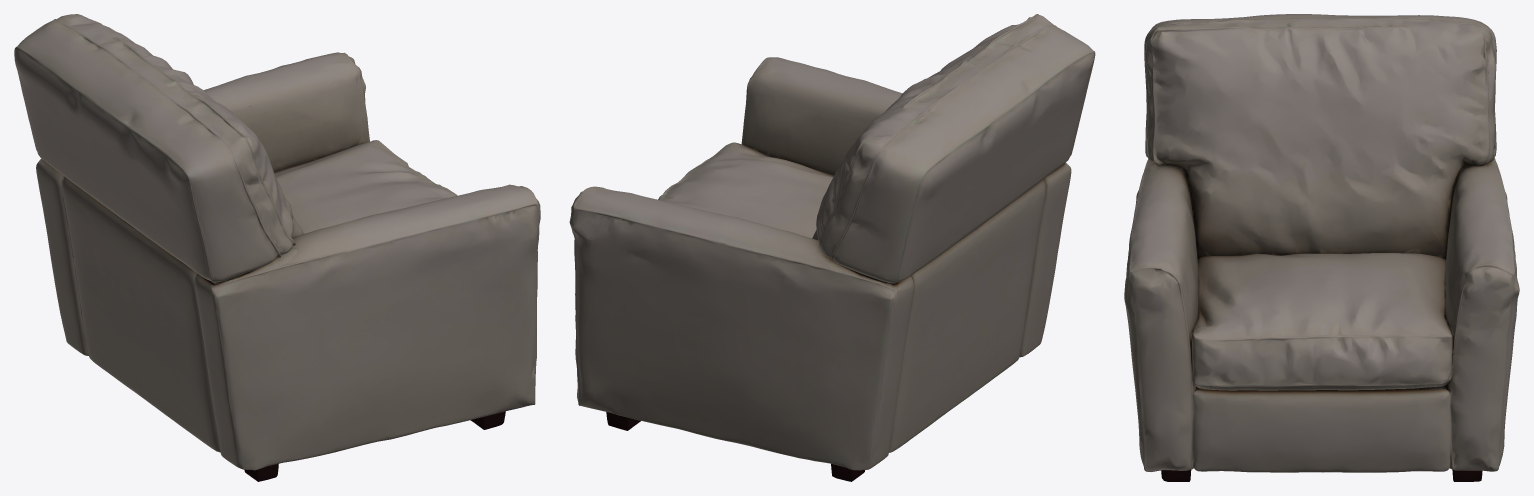
The model's file is chair-armchair.glb.
3 renders of one model, left to right at view 1: azimuth 30°, elevation 25°; view 2: azimuth 150°, elevation 25°; view 3: azimuth 270°, elevation 25°, orthographic. The views are drawn at different scales.
Visible parts, largest first — view 1: tripo_node_af453963-a93c-4009-8715-d6bcd1ed57b4; view 2: tripo_node_af453963-a93c-4009-8715-d6bcd1ed57b4; view 3: tripo_node_af453963-a93c-4009-8715-d6bcd1ed57b4.
Boxes of the visible parts, left/top/right/bottom form: tripo_node_af453963-a93c-4009-8715-d6bcd1ed57b4: left=14, top=14, right=540, bottom=481; tripo_node_af453963-a93c-4009-8715-d6bcd1ed57b4: left=569, top=14, right=1095, bottom=481; tripo_node_af453963-a93c-4009-8715-d6bcd1ed57b4: left=1124, top=14, right=1519, bottom=481.
Bounding box in the file's own units: 1.01 × 0.95 × 1.01.
Materials: 1 (1 with a texture image).
